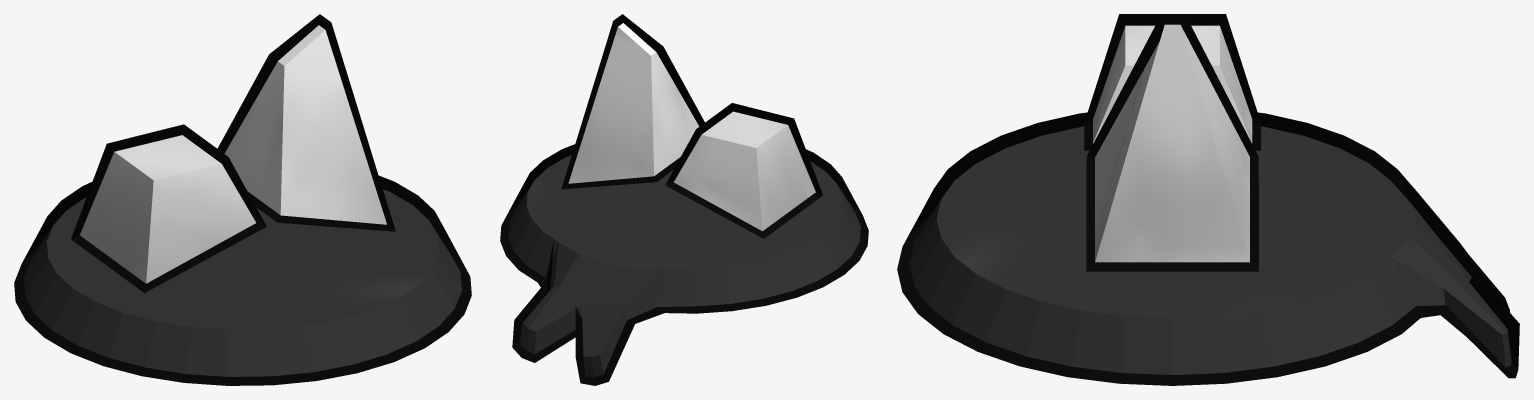
3 views of the same model, side by side, from view 1: azimuth 30°, elevation 25°; view 2: azimuth 150°, elevation 25°; view 3: azimuth 270°, elevation 25° (orthographic). The views are drawn at different scales.
Visible parts, largest first — view 1: 圆环.001; view 2: 圆环.001; view 3: 圆环.001.
Part boxes in pixels (x1=…): 圆环.001: x1=14, y1=14, x2=471, y2=385; 圆环.001: x1=500, y1=14, x2=868, y2=385; 圆环.001: x1=897, y1=14, x2=1519, y2=385.
Bounding box in the file's own units: 0.5301 × 0.426 × 0.5991.
